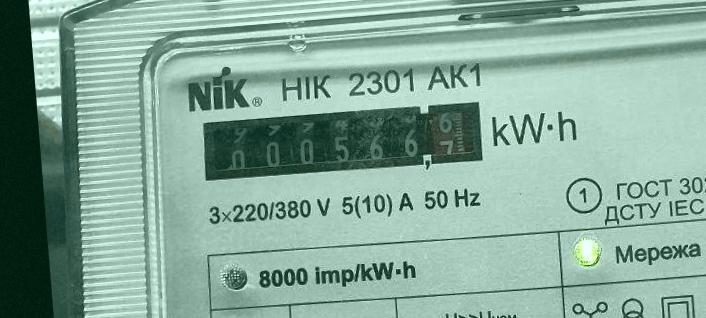0: (296, 135, 316, 165), (262, 137, 281, 167), (227, 145, 247, 169)
5: (331, 132, 351, 163)
6: (399, 125, 421, 157), (364, 131, 385, 160), (436, 109, 454, 135)
7: (438, 137, 455, 156)
9: (229, 122, 248, 144)
screen: (191, 92, 489, 191)
